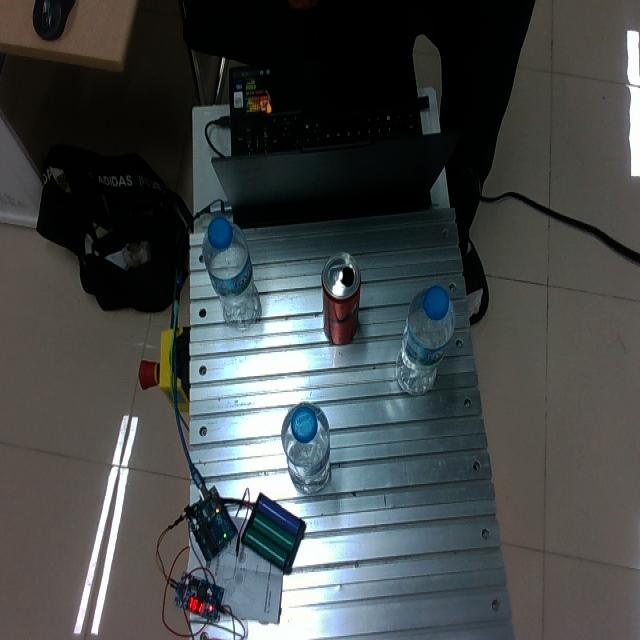coca: (320, 252, 362, 345)
lavie: (393, 284, 455, 396), (202, 214, 261, 330), (281, 403, 330, 493)
